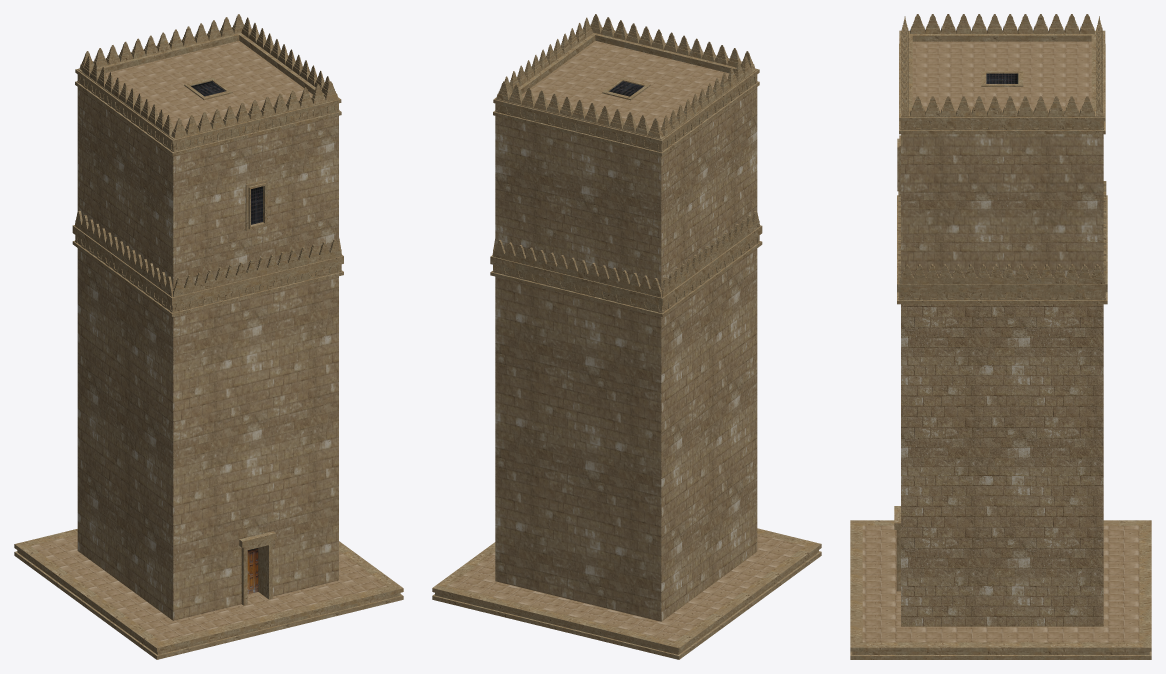
File: buildingPersianTower.glb
3 views of the same model, side by side, from view 1: azimuth 30°, elevation 25°; view 2: azimuth 150°, elevation 25°; view 3: azimuth 270°, elevation 25° (orthographic). The views are drawn at different scales.
Visible parts, largest first — view 1: structure, floor; view 2: structure, floor; view 3: structure, floor.
Boxes of the visible parts, <box> form: structure: <box>72,14,343,620</box>; floor: <box>14,529,403,659</box>; structure: <box>490,14,762,621</box>; floor: <box>432,528,821,659</box>; structure: <box>894,14,1107,626</box>; floor: <box>850,520,1151,659</box>.
Size of the model in its own units: 0.0806 by 0.1595 by 0.0806.
Materials: 6 (6 with a texture image).
